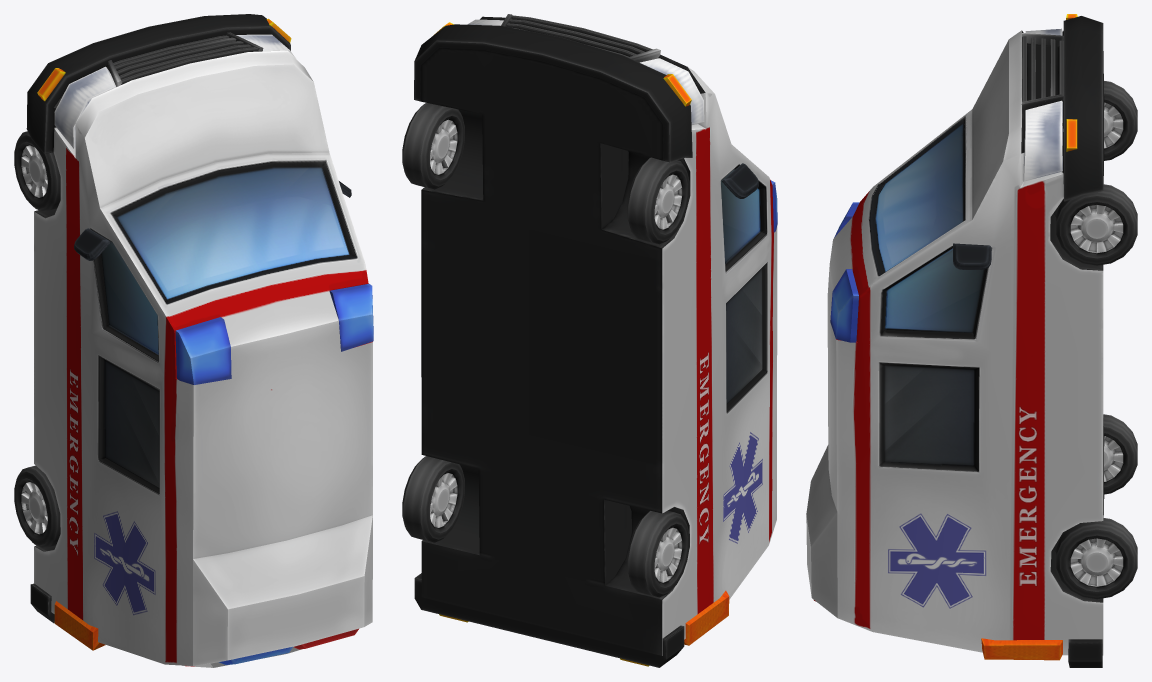
File: ambulance.fbx
3 renders of one model, left to right at view 1: azimuth 30°, elevation 25°; view 2: azimuth 150°, elevation 25°; view 3: azimuth 270°, elevation 25°, orthographic. The views are drawn at different scales.
Visible parts, largest first — view 1: Object_2; view 2: Object_2; view 3: Object_2.
Part boxes in pixels (bbox=[...]): Object_2: bbox=[14, 14, 373, 667]; Object_2: bbox=[402, 14, 777, 667]; Object_2: bbox=[806, 14, 1137, 667].
Size of the model in its own units: 275 by 564 by 300.
1 material, 1 textured.
